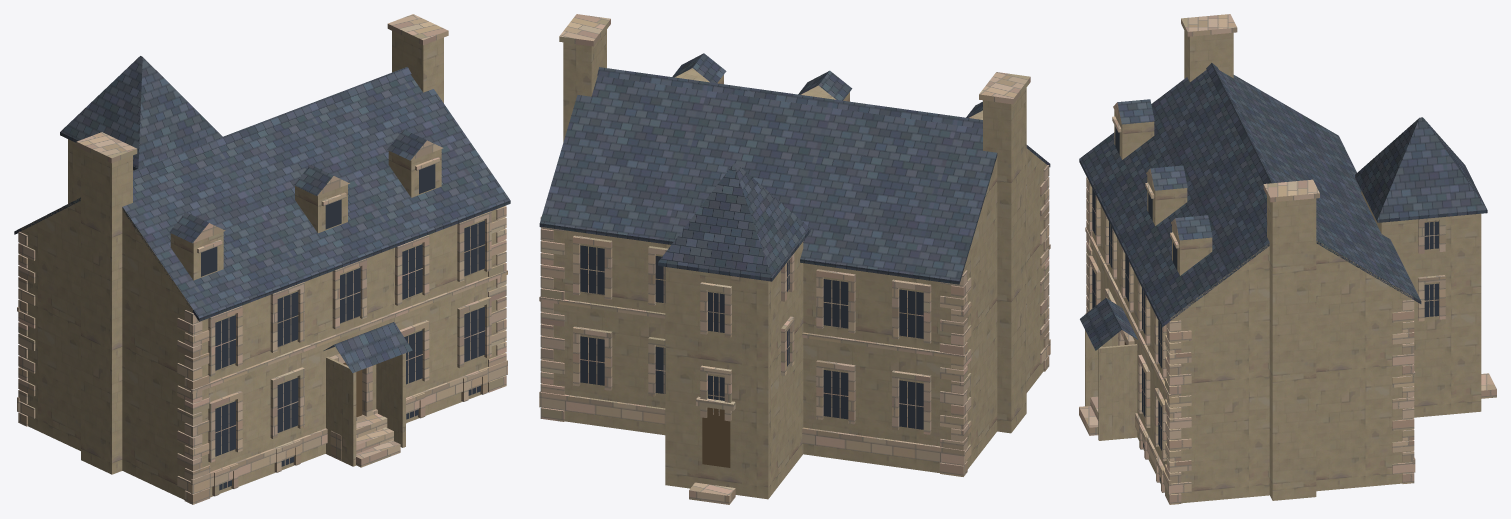
3 renders of one model, left to right at view 1: azimuth 30°, elevation 25°; view 2: azimuth 150°, elevation 25°; view 3: azimuth 270°, elevation 25°, orthographic. The views are drawn at different scales.
Parts seen in each view (by area): view 1: rectory_wall001, rectory_slate001, rectory_dressed001, rectory_glass001, rectory_timber001, Object001; view 2: rectory_wall001, rectory_slate001, rectory_dressed001, rectory_glass001, rectory_oak001; view 3: rectory_wall001, rectory_slate001, rectory_dressed001, rectory_timber001, rectory_glass001, Object001.
Boxes of the visible parts, left/top/right/bottom form: rectory_wall001: left=21, top=31, right=503, bottom=499; rectory_slate001: left=14, top=56, right=510, bottom=321; rectory_dressed001: left=17, top=14, right=507, bottom=504; rectory_glass001: left=201, top=164, right=484, bottom=490; rectory_timber001: left=326, top=353, right=405, bottom=466; Object001: left=323, top=322, right=412, bottom=372; rectory_wall001: left=542, top=29, right=1046, bottom=499; rectory_slate001: left=539, top=53, right=1050, bottom=284; rectory_dressed001: left=539, top=14, right=1050, bottom=504; rectory_glass001: left=580, top=245, right=923, bottom=429; rectory_oak001: left=702, top=407, right=730, bottom=467; rectory_wall001: left=1090, top=31, right=1481, bottom=503; rectory_slate001: left=1079, top=63, right=1487, bottom=327; rectory_dressed001: left=1079, top=14, right=1496, bottom=504; rectory_timber001: left=1085, top=330, right=1137, bottom=440; rectory_glass001: left=1092, top=127, right=1438, bottom=482; Object001: left=1080, top=298, right=1137, bottom=350.
Bounding box in the file's own units: 15.05 × 11.29 × 14.02.
5 materials, 3 textured.
